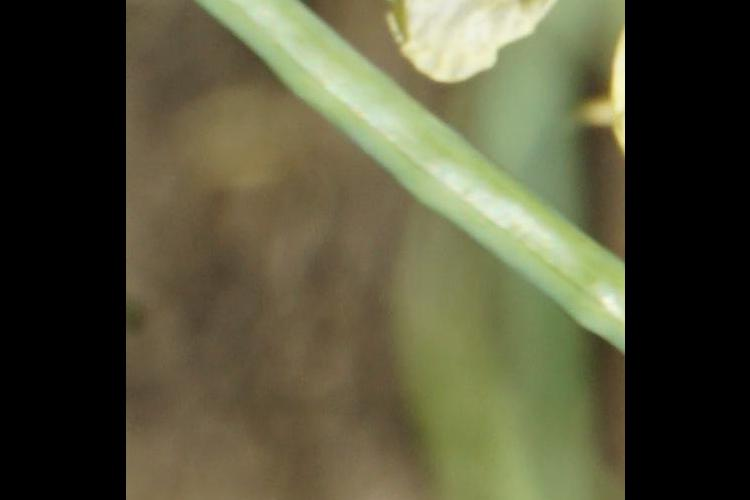white: (389, 1, 609, 91)
